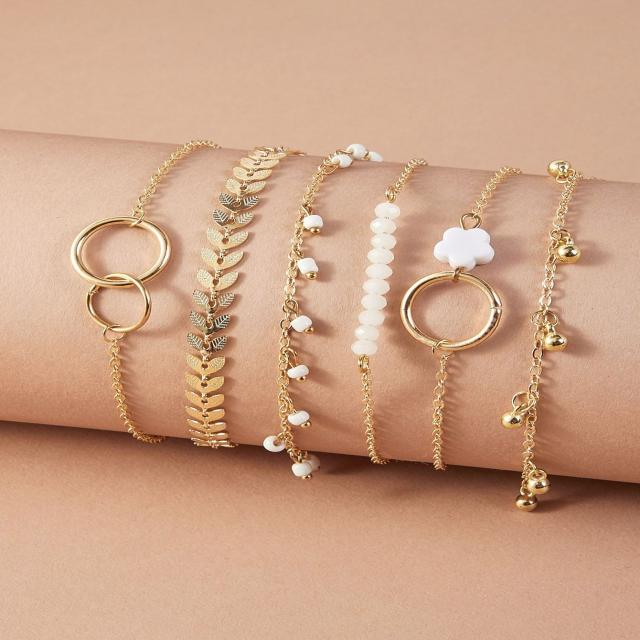bracelet: (49, 68, 640, 531)
